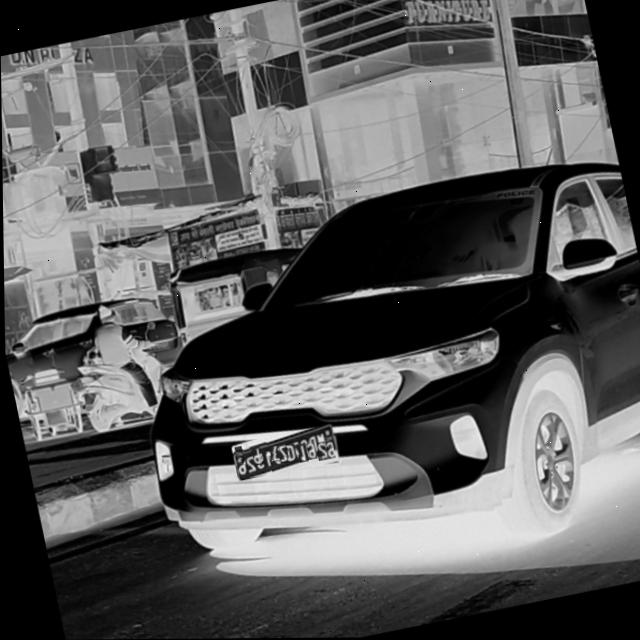0: (259, 446, 270, 465)
1: (296, 444, 307, 463)
2: (315, 442, 326, 461)
6: (325, 441, 336, 459)
7: (268, 446, 279, 462)
9: (305, 443, 316, 460)
D: (286, 444, 297, 463)
IND: (233, 447, 243, 464)
Indian_registered: (233, 426, 335, 480)
M: (242, 448, 252, 467)
P: (250, 447, 261, 466)
Z: (277, 444, 288, 463)
